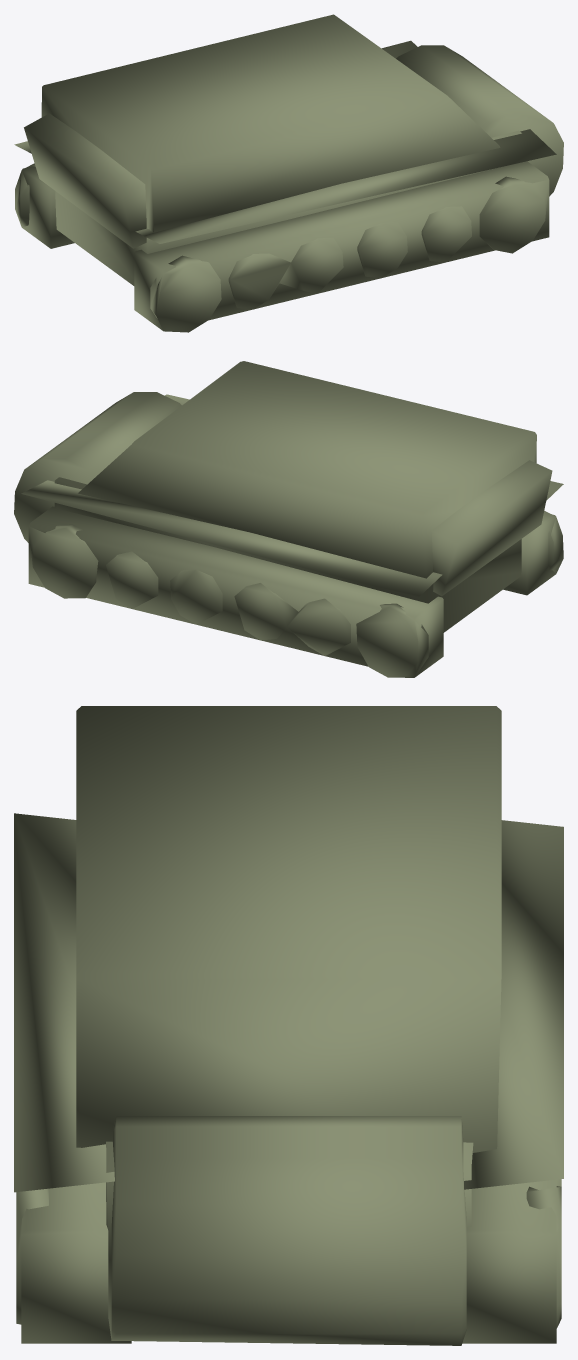
Rendered from sherman.lod1.glb.
3 views of the same model, one above another, from view 1: azimuth 30°, elevation 25°; view 2: azimuth 150°, elevation 25°; view 3: azimuth 270°, elevation 25° (orthographic). The views are drawn at different scales.
Size of the model in its own units: 3.89 by 1.33 by 2.2.
